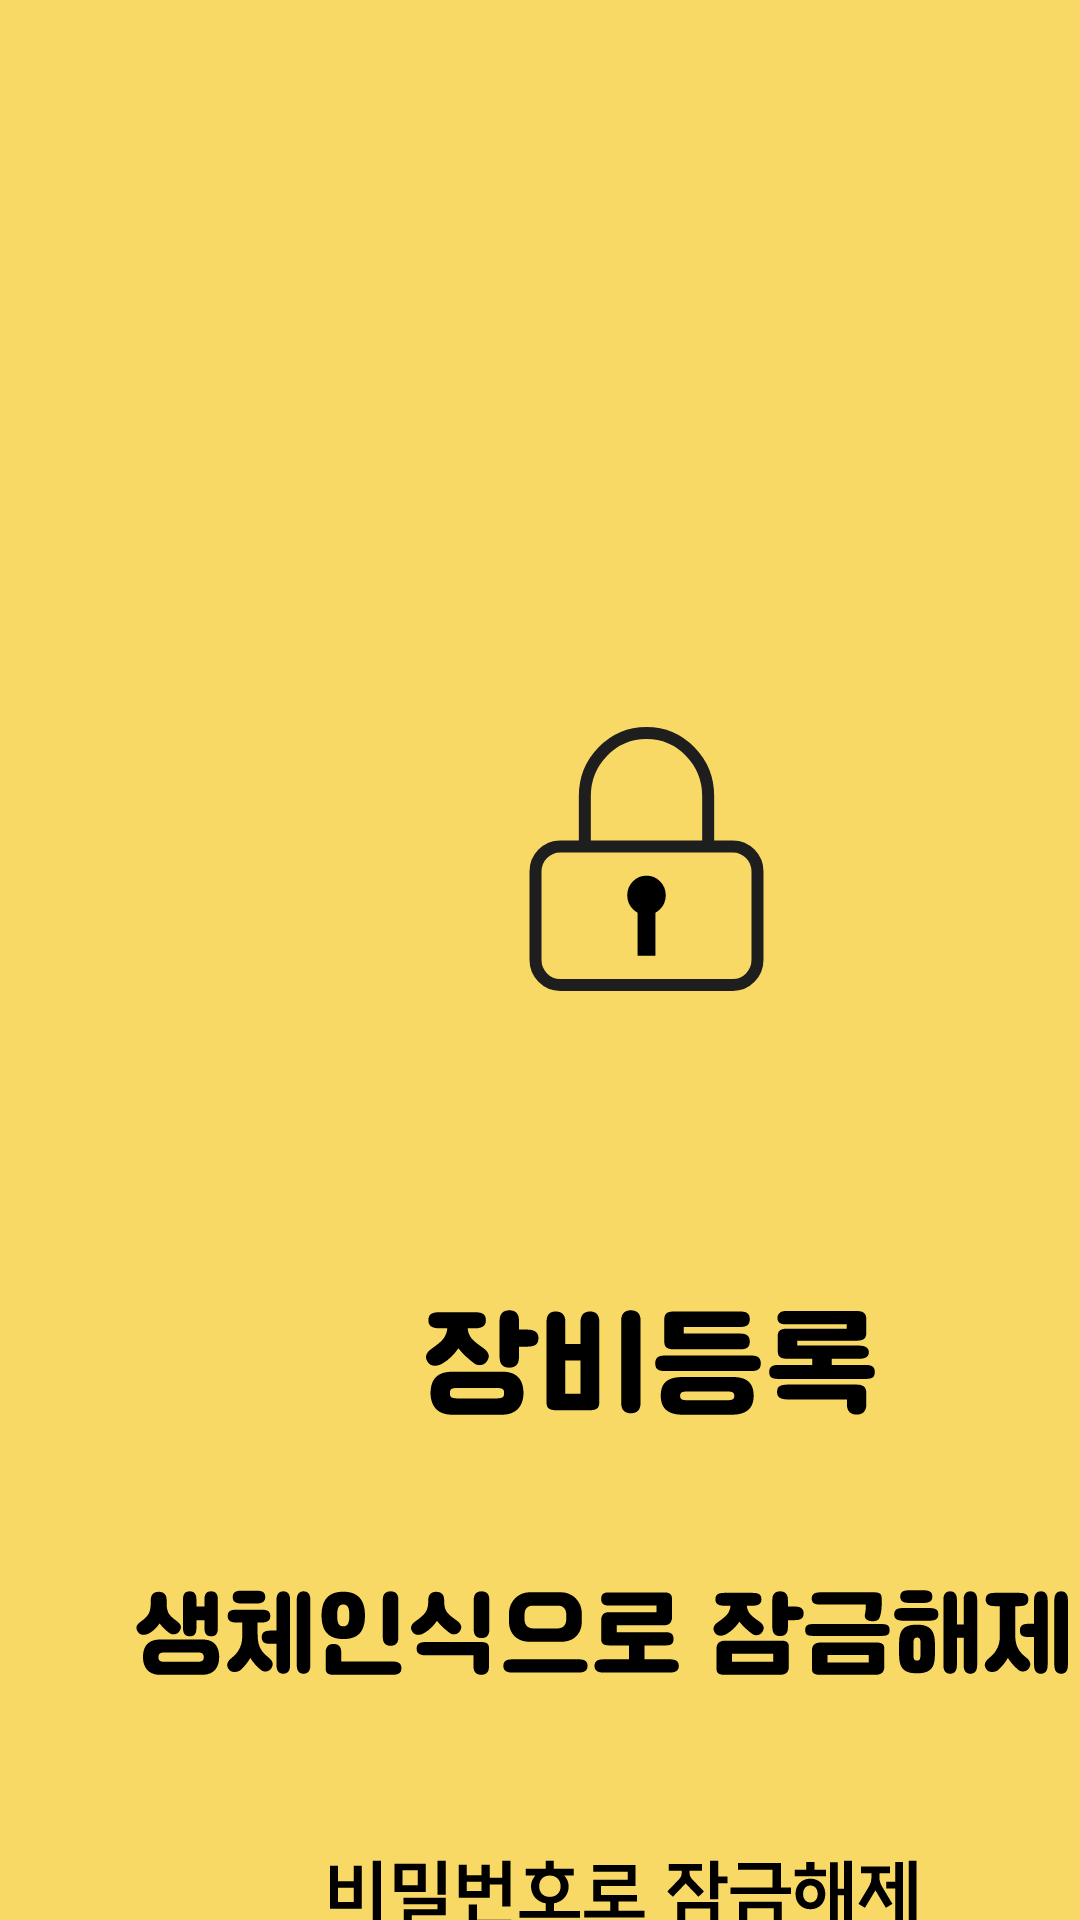

Screen size 1080 × 1920. Icon name, then its center in pixels as (x=x, y=y):
locker: (x=646, y=859)
